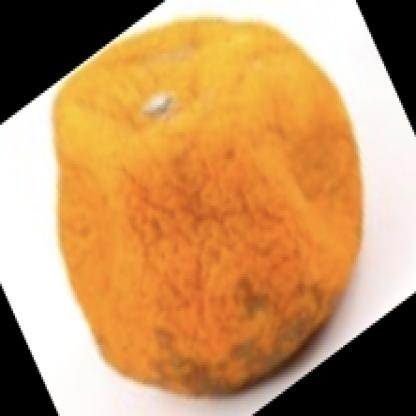rotten: (56, 19, 363, 397)
